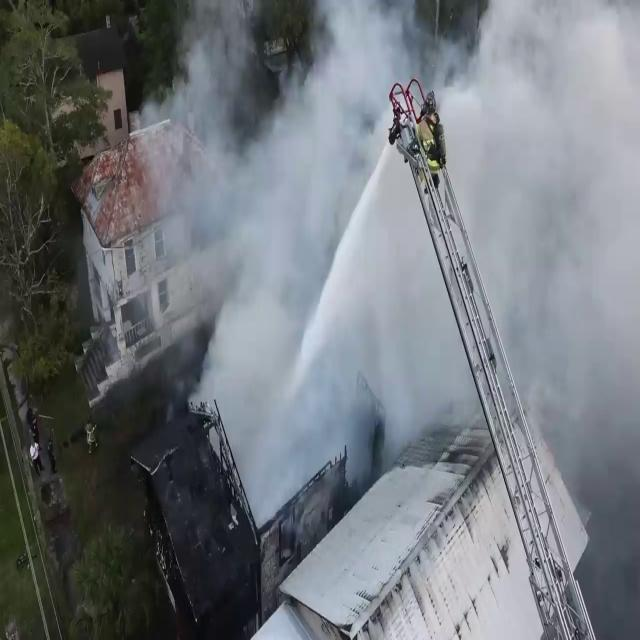Smoke: (211, 208, 360, 544)
